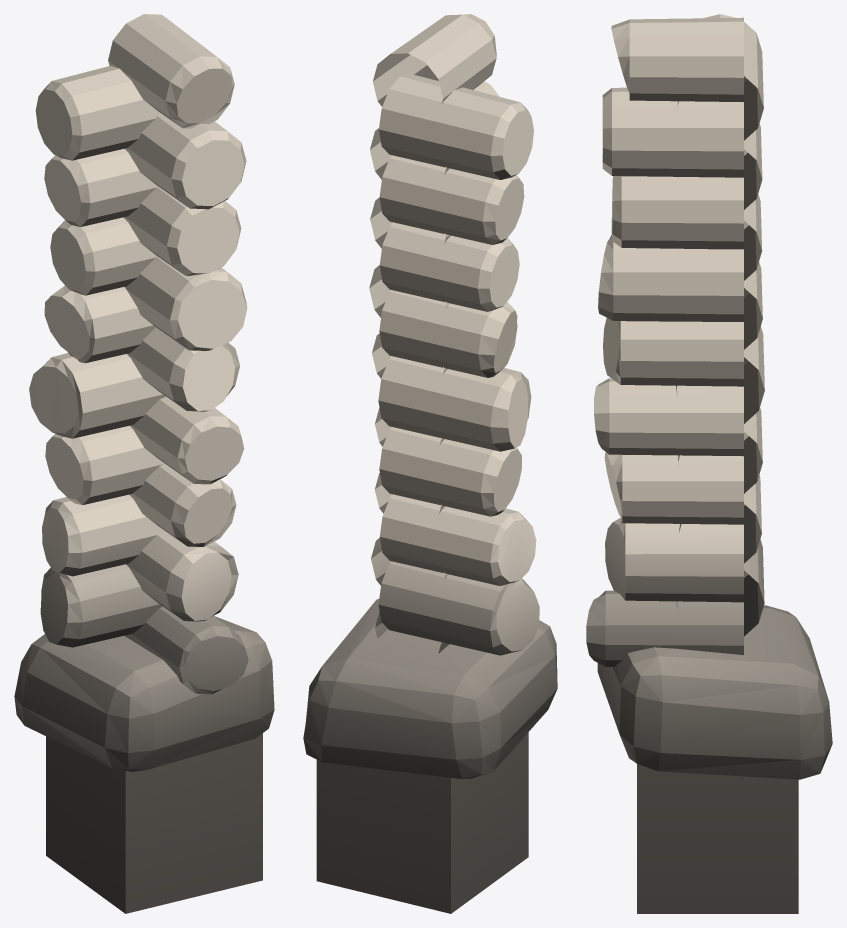
The model's file is SM_VK_Corner_Log_B.fbx.
3 renders of one model, left to right at view 1: azimuth 30°, elevation 25°; view 2: azimuth 150°, elevation 25°; view 3: azimuth 270°, elevation 25°, orthographic. The views are drawn at different scales.
Visible parts, largest first — view 1: SM_VK_Corner_Log_B.001; view 2: SM_VK_Corner_Log_B.001; view 3: SM_VK_Corner_Log_B.001.
Part boxes in pixels (x1,y1,x2,y2): SM_VK_Corner_Log_B.001: [14, 14, 274, 913]; SM_VK_Corner_Log_B.001: [303, 14, 557, 913]; SM_VK_Corner_Log_B.001: [586, 14, 832, 913].
Size of the model in its own units: 0.8726 by 3.64 by 0.9454.
